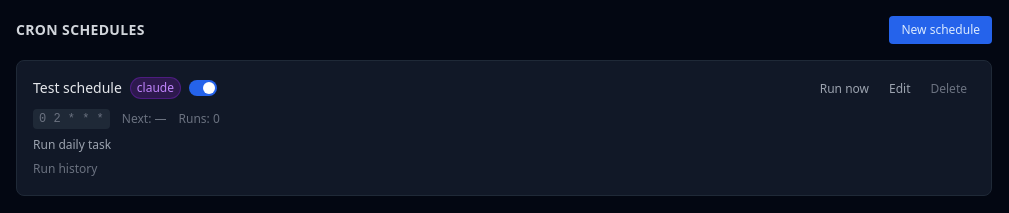
Test case: CronPage › shows Confirm? and Yes/No buttons when Delete is clicked
The image size is (1009, 213).
What coordinates should you click on to do the following:
click the button "Delete"
I would click on:
 (949, 89)
Its box is [922,77,975,101].
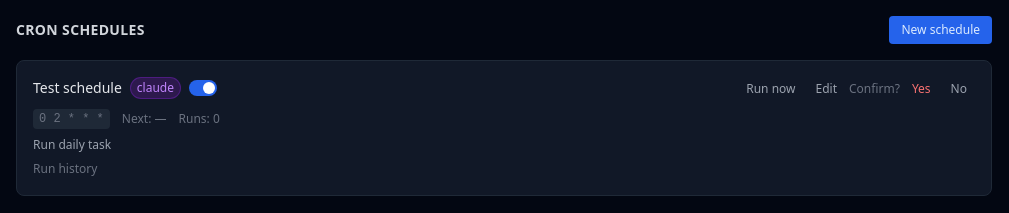
Expected: the text "Confirm?" is shown, [849,81,900,97]
Expected: the button "Yes" is shown, [904,77,939,101]
Expected: the button "No" is shown, [943,77,975,101]
